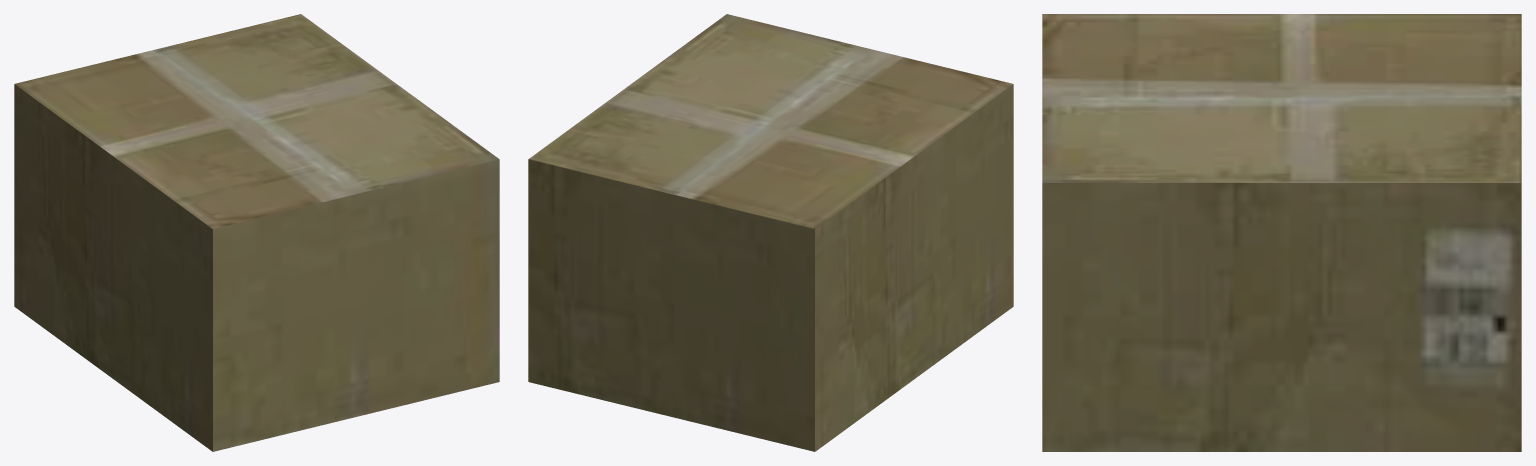
Rendered from cardboard_box001a.glb.
3 views of the same model, side by side, from view 1: azimuth 30°, elevation 25°; view 2: azimuth 150°, elevation 25°; view 3: azimuth 270°, elevation 25° (orthographic). The views are drawn at different scales.
Visible parts, largest first — view 1: 0_Cardboard_boxes001a; view 2: 0_Cardboard_boxes001a; view 3: 0_Cardboard_boxes001a.
Part boxes in pixels (bbox=[...]): 0_Cardboard_boxes001a: bbox=[14, 14, 499, 451]; 0_Cardboard_boxes001a: bbox=[528, 14, 1013, 451]; 0_Cardboard_boxes001a: bbox=[1042, 14, 1521, 451].
Bounding box in the file's own units: 0.8203 × 0.6089 × 0.9834.
1 material, 1 textured.
